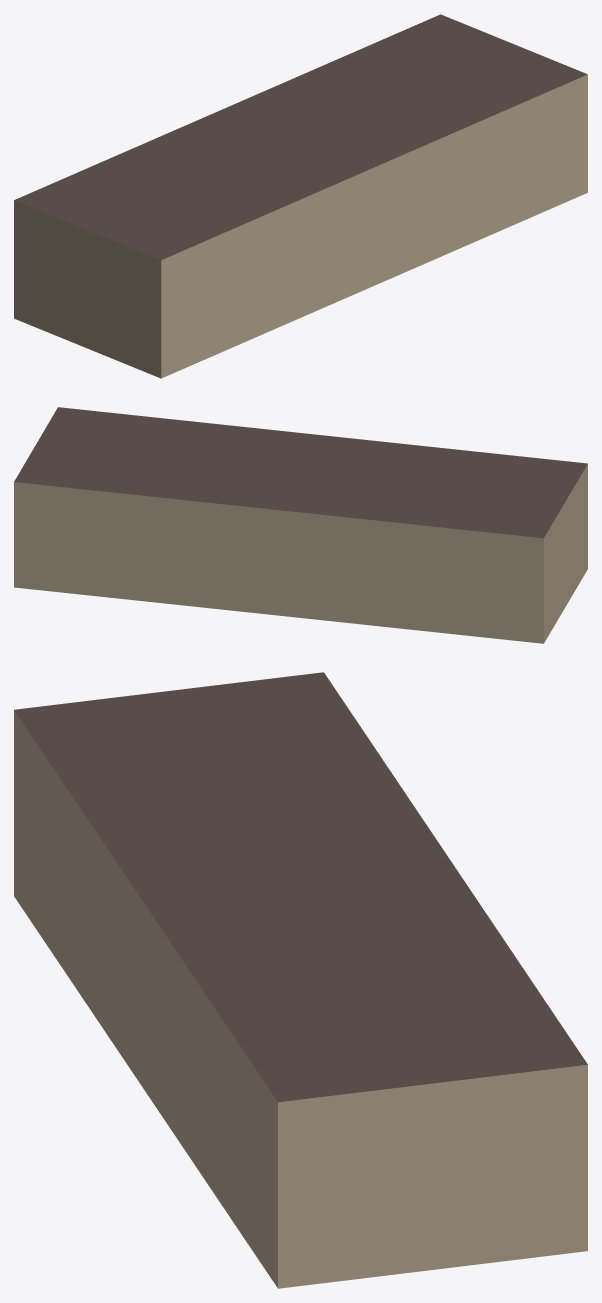
The picture shows the model from 3 angles, top to bottom: view 1: azimuth 30°, elevation 25°; view 2: azimuth 150°, elevation 25°; view 3: azimuth 270°, elevation 25°; orthographic projection. The views are drawn at different scales.
Parts seen in each view (by area): view 1: HP-w299011322; view 2: HP-w299011322; view 3: HP-w299011322.
Part boxes in pixels (box(x1,y1,x2,y2)): HP-w299011322: box(14, 14, 587, 378); HP-w299011322: box(14, 407, 587, 643); HP-w299011322: box(14, 672, 587, 1288).
Bounding box in the file's own units: 44.53 × 9 × 25.11.
